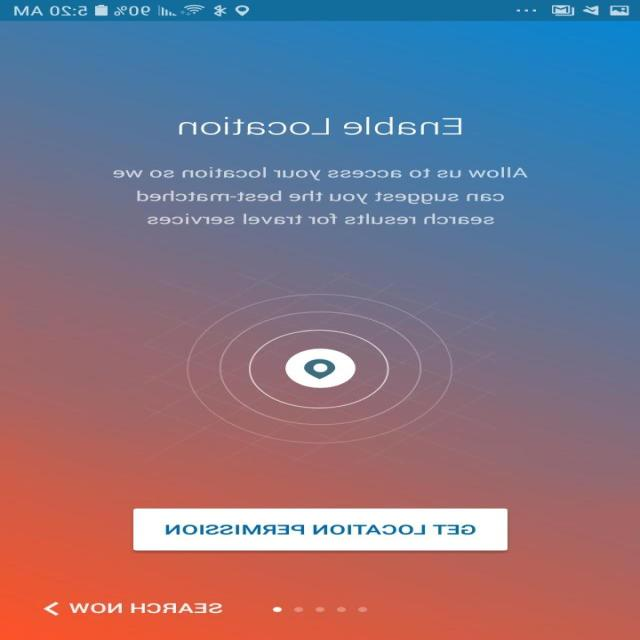Icon: (286, 348, 356, 388), (44, 601, 60, 615)
Text: (114, 167, 529, 224), (178, 116, 462, 136), (69, 602, 223, 613)
TextButton: (134, 508, 508, 550)
